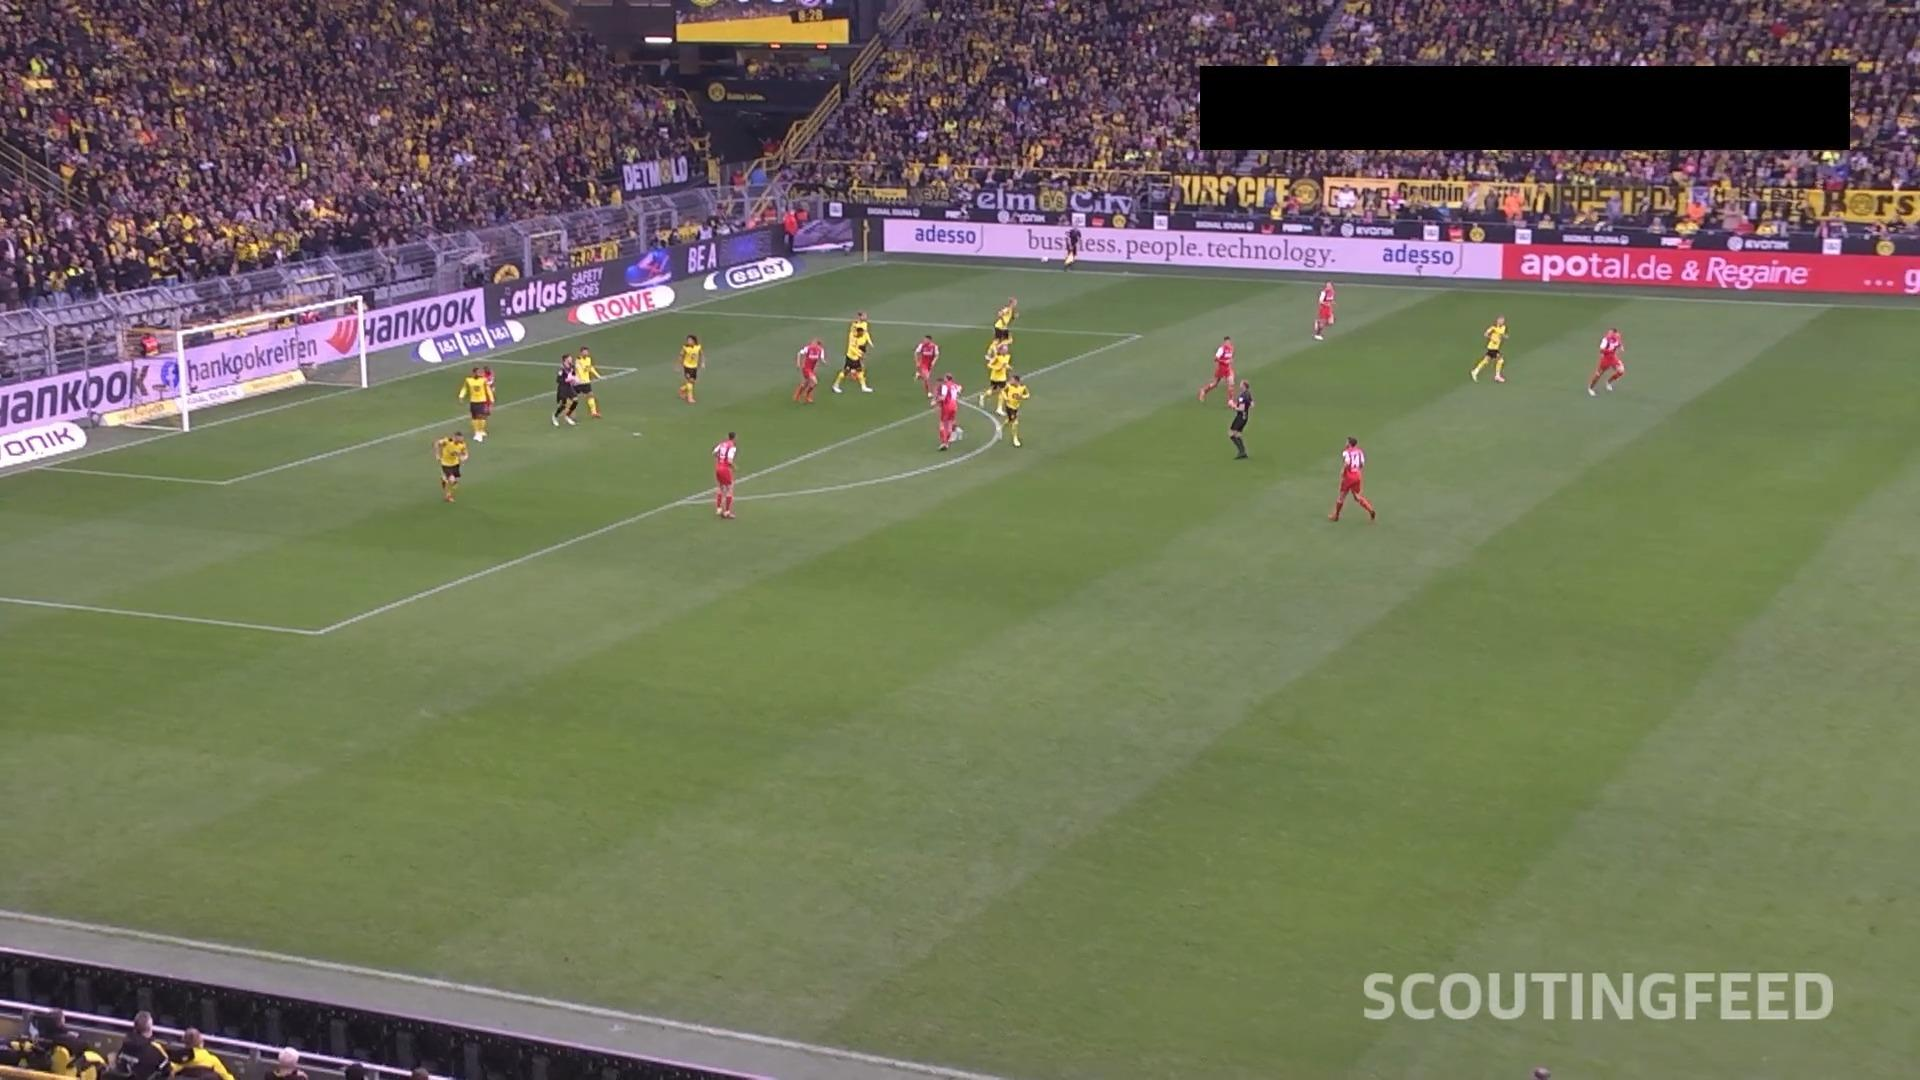coach: (782, 205, 799, 253)
player: (1326, 435, 1375, 522), (836, 310, 874, 393), (457, 365, 495, 441), (1197, 334, 1236, 405), (1586, 326, 1625, 396), (1469, 315, 1508, 383), (982, 328, 1013, 413), (994, 372, 1029, 447), (569, 345, 603, 420), (433, 430, 468, 502), (834, 327, 872, 393), (931, 372, 963, 450), (711, 430, 738, 518), (792, 337, 826, 404), (550, 353, 578, 427), (676, 333, 705, 403), (912, 332, 939, 401), (474, 364, 496, 435), (1312, 279, 1336, 340), (991, 295, 1018, 345)
referee: (1225, 379, 1253, 459), (1061, 224, 1081, 271)
